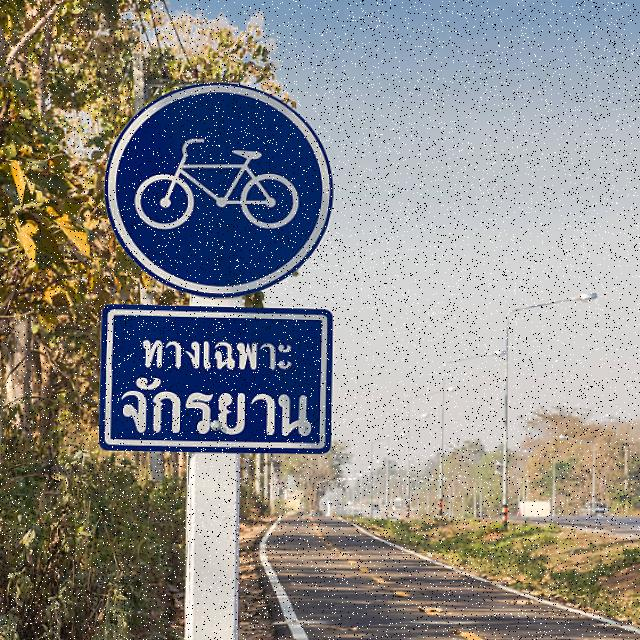bicycle: (96, 70, 334, 299)
